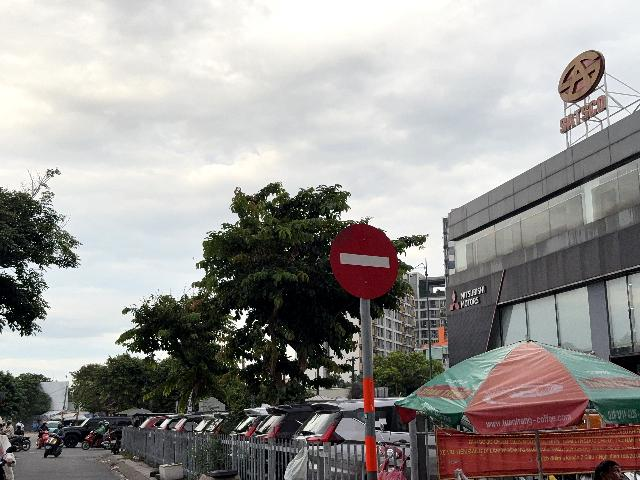cam-di-nguoc-chieu: (330, 223, 398, 300)
